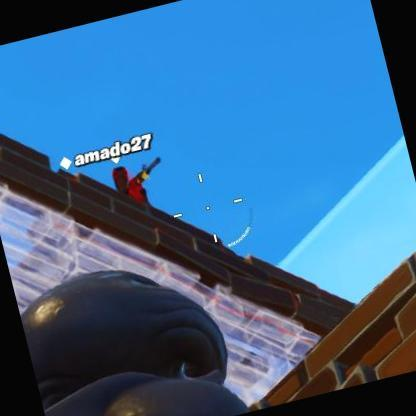person: (102, 163, 148, 208)
